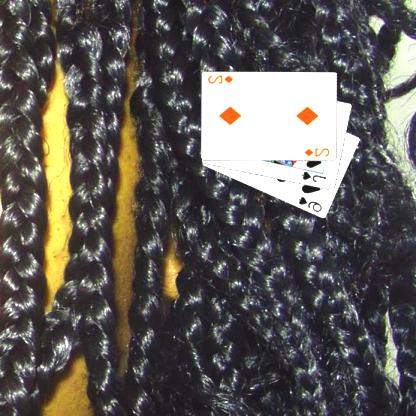2D: (304, 146, 333, 158), (208, 73, 236, 85)
9S: (297, 194, 325, 214)
JS: (301, 169, 329, 184)
